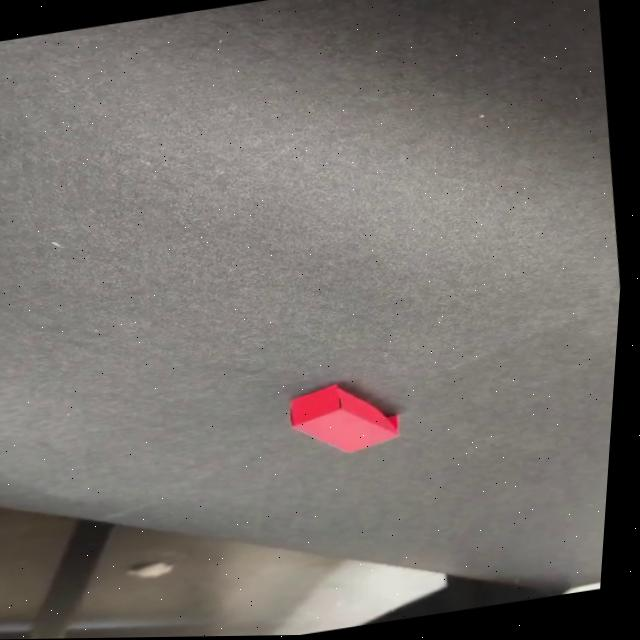red block: (281, 374, 406, 464)
